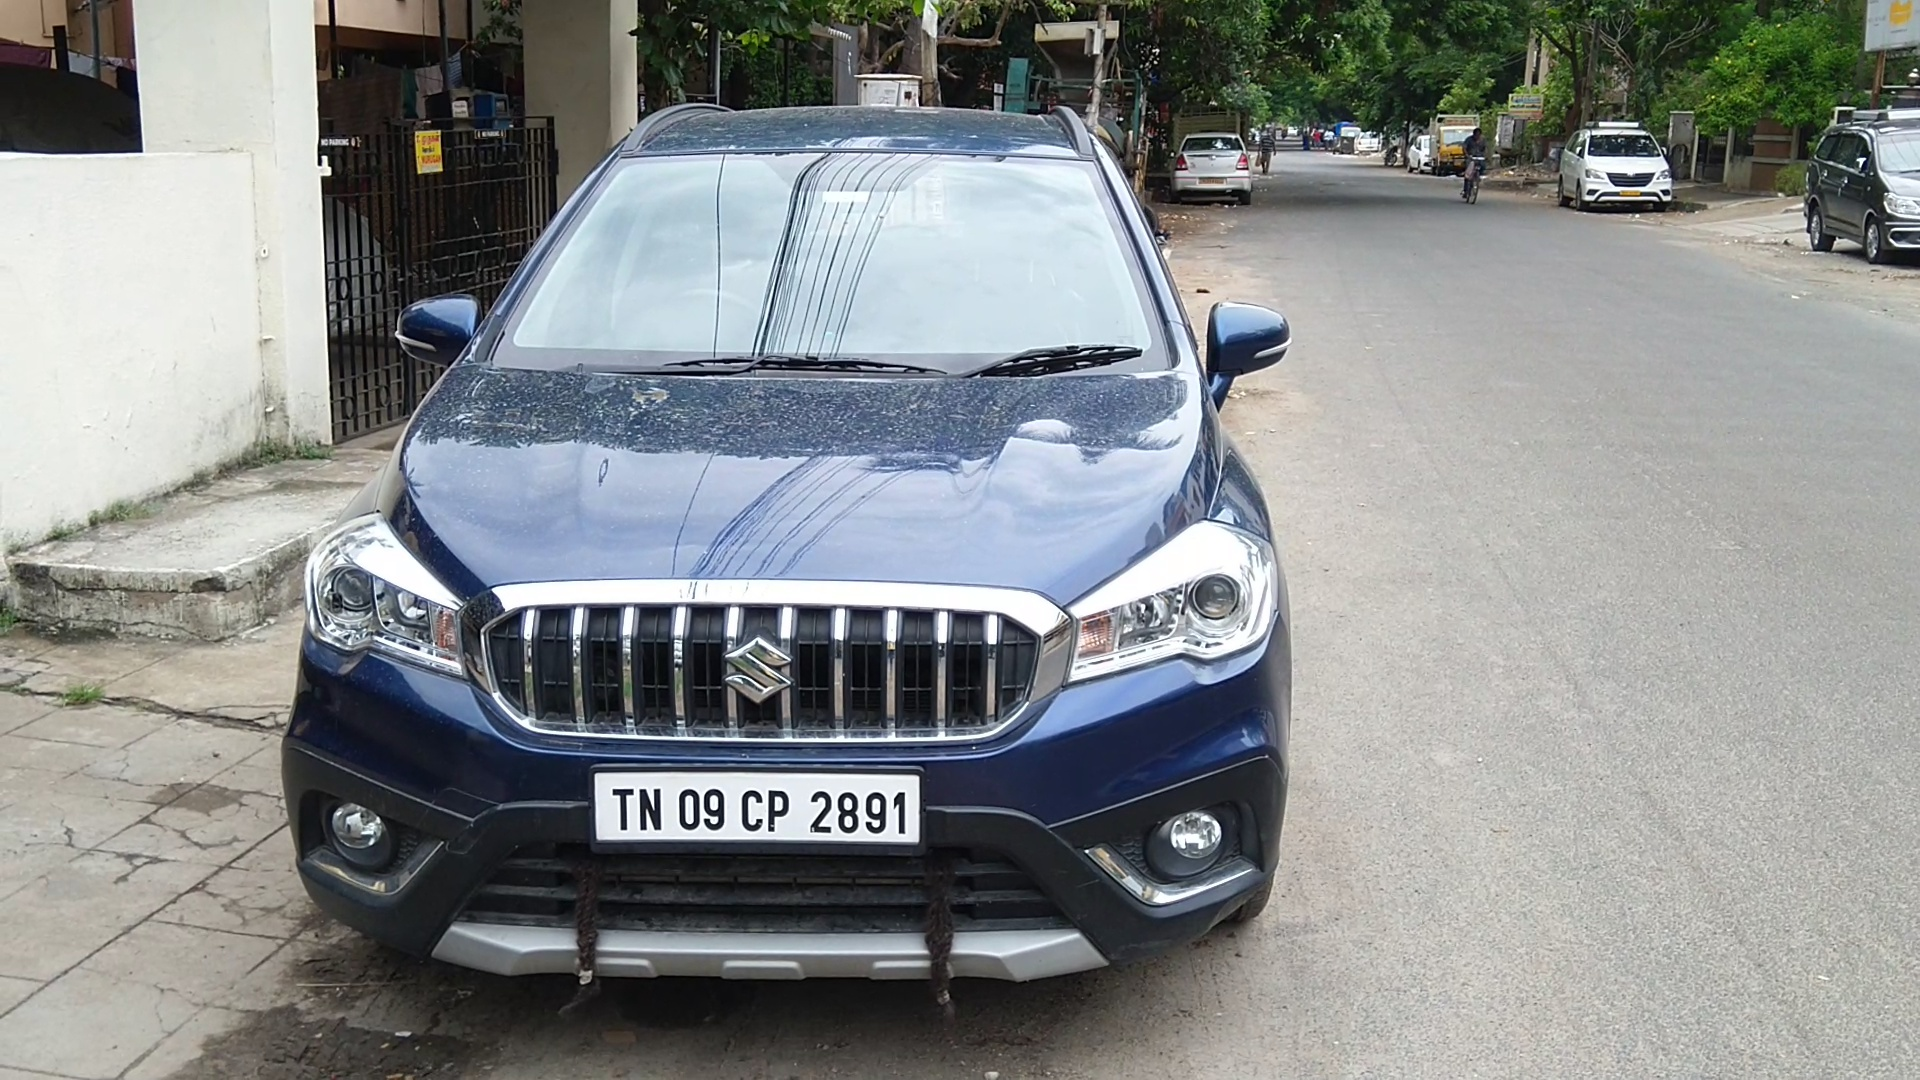front_grill: (460, 584, 1073, 749)
headlamp: (1071, 514, 1288, 686), (301, 510, 464, 676)
ovr_mirror: (388, 291, 483, 371), (1212, 293, 1292, 381)
